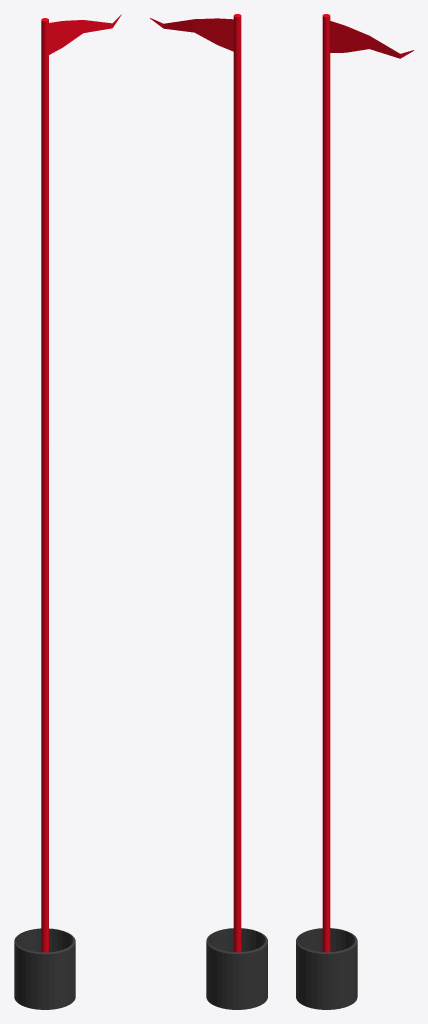
The model's file is flagpole.fbx.
3 renders of one model, left to right at view 1: azimuth 30°, elevation 25°; view 2: azimuth 150°, elevation 25°; view 3: azimuth 330°, elevation 25°, orthographic.
Visible parts, largest first — view 1: Cylinder.001, Cylinder; view 2: Cylinder.001, Cylinder; view 3: Cylinder.001, Cylinder.
Boxes of the visible parts, x1=… form: Cylinder.001: x1=41, y1=14, x2=121, y2=952; Cylinder: x1=14, y1=928, x2=75, y2=1009; Cylinder.001: x1=150, y1=14, x2=241, y2=952; Cylinder: x1=206, y1=928, x2=267, y2=1009; Cylinder.001: x1=322, y1=14, x2=413, y2=952; Cylinder: x1=296, y1=928, x2=357, y2=1009.
Bounding box in the file's own units: 1436 × 12375 × 705.
